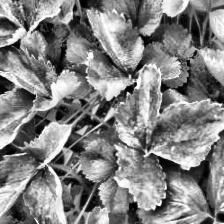Powdery Mildew Leaf: (147, 99, 224, 171), (113, 63, 163, 153), (112, 142, 167, 212), (21, 164, 68, 224), (20, 120, 73, 169), (31, 68, 81, 112), (199, 45, 224, 128), (159, 0, 190, 18)
